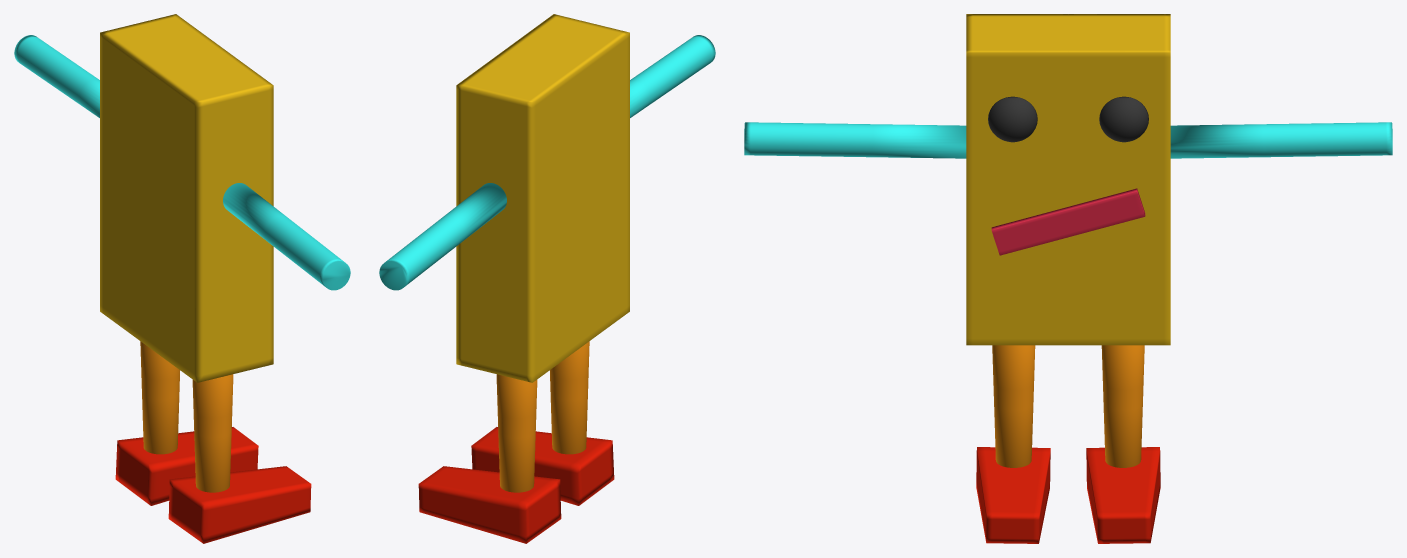
The model's file is mob1.fbx.
3 views of the same model, side by side, from view 1: azimuth 30°, elevation 25°; view 2: azimuth 150°, elevation 25°; view 3: azimuth 270°, elevation 25° (orthographic). The views are drawn at different scales.
Visible parts, largest first — view 1: body, foot, leg, arm; view 2: body, foot, leg, arm; view 3: body, arm, foot, leg, mouth, eye.
Part boxes in pixels (x1=…): body: x1=100, y1=14, x2=273, y2=382; foot: x1=115, y1=427, x2=311, y2=543; leg: x1=140, y1=341, x2=233, y2=492; arm: x1=14, y1=35, x2=350, y2=290; body: x1=456, y1=14, x2=629, y2=382; foot: x1=418, y1=427, x2=614, y2=543; leg: x1=496, y1=341, x2=589, y2=492; arm: x1=379, y1=35, x2=715, y2=290; body: x1=966, y1=14, x2=1170, y2=345; arm: x1=744, y1=122, x2=1392, y2=158; foot: x1=976, y1=447, x2=1160, y2=543; leg: x1=992, y1=345, x2=1144, y2=467; mouth: x1=991, y1=188, x2=1145, y2=255; eye: x1=988, y1=96, x2=1148, y2=142.
Size of the model in its own units: 173 by 598 by 750.
